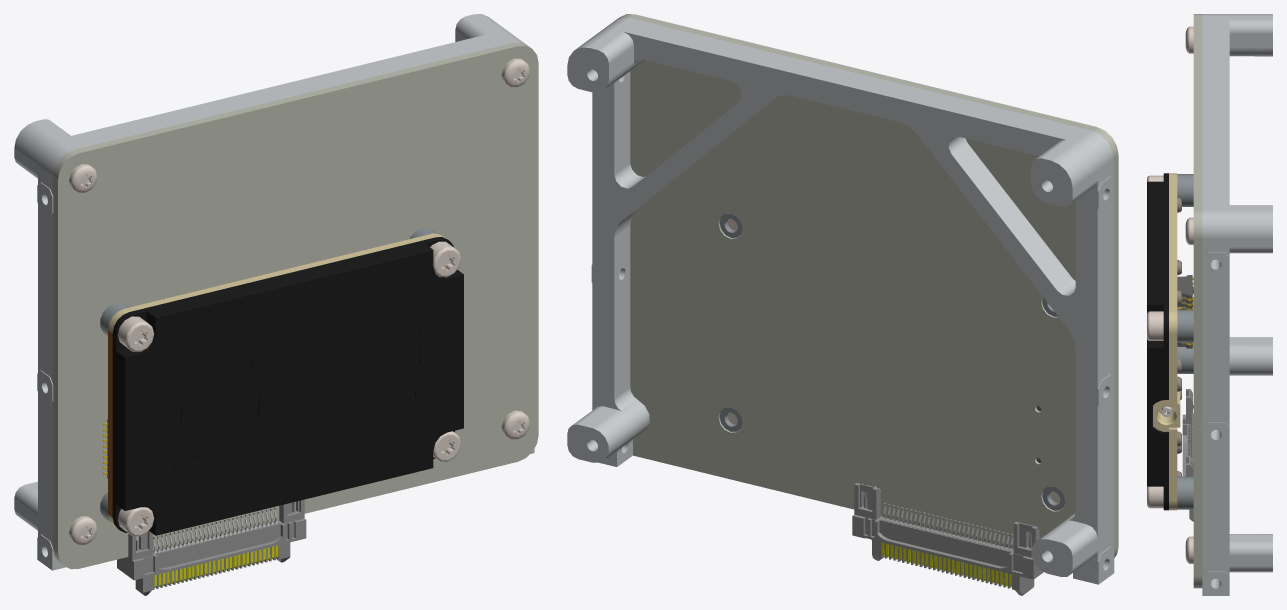
File: com.glb
3 renders of one model, left to right at view 1: azimuth 30°, elevation 25°; view 2: azimuth 150°, elevation 25°; view 3: azimuth 270°, elevation 25°, orthographic. The views are drawn at different scales.
Parts seen in each view (by area): view 1: board, parts, if_0, inst_3_0, inst_3_3, inst_3_1; view 2: board, parts, if_0; view 3: parts, board, if_0, if_1, inst_0_2, inst_0_3, inst_0_1, inst_3_1, inst_0_0, inst_3_2, inst_2_0, inst_2_1.
Part boxes in pixels (left/top/right/bottom): board: left=53, top=42, right=538, bottom=569; parts: left=14, top=14, right=534, bottom=570; if_0: left=117, top=499, right=306, bottom=595; inst_3_0: left=118, top=316, right=154, bottom=351; inst_3_3: left=118, top=507, right=154, bottom=536; inst_3_1: left=430, top=241, right=460, bottom=277; board: left=615, top=14, right=1118, bottom=557; parts: left=567, top=17, right=1114, bottom=584; if_0: left=852, top=483, right=1043, bottom=595; parts: left=1147, top=14, right=1272, bottom=595; board: left=1193, top=14, right=1202, bottom=588; if_0: left=1182, top=389, right=1193, bottom=521; if_1: left=1153, top=391, right=1180, bottom=431; inst_0_2: left=1177, top=476, right=1193, bottom=509; inst_0_3: left=1177, top=309, right=1193, bottom=342; inst_0_1: left=1177, top=174, right=1193, bottom=206; inst_3_1: left=1147, top=311, right=1163, bottom=340; inst_0_0: left=1177, top=342, right=1193, bottom=373; inst_3_2: left=1147, top=486, right=1163, bottom=508; inst_2_0: left=1185, top=217, right=1193, bottom=244; inst_2_1: left=1185, top=26, right=1193, bottom=53.
Bounding box in the file's own units: 92.3 × 83.85 × 23.02.
